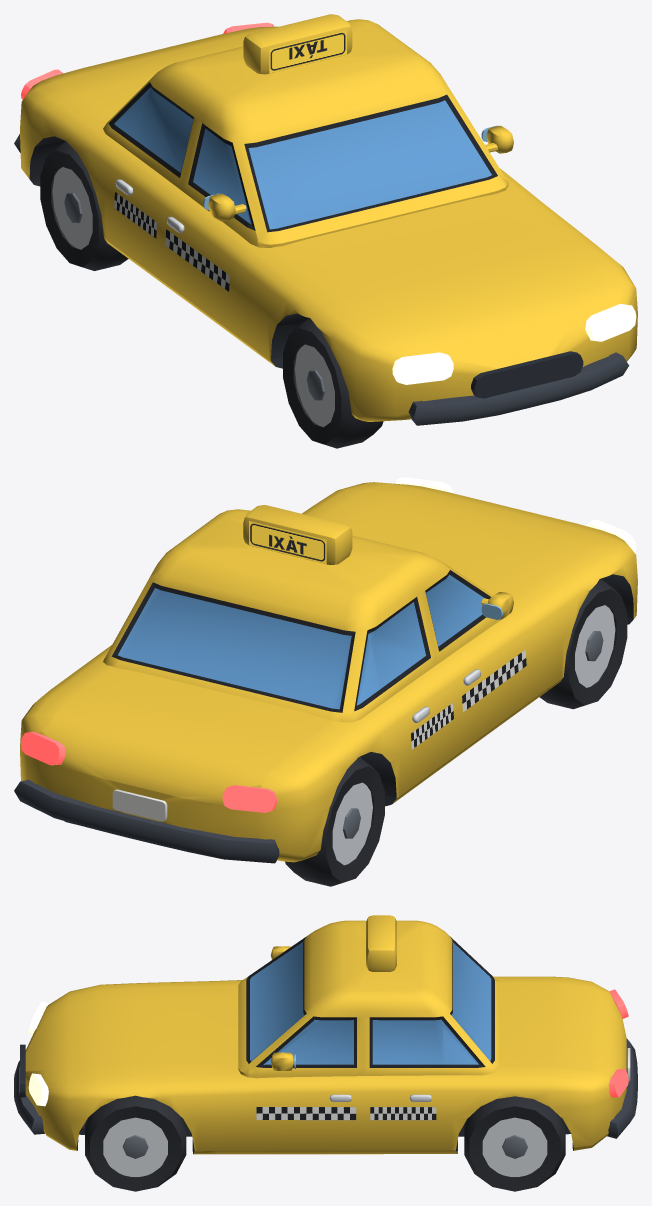
The model's file is taxi.glb.
The picture shows the model from 3 angles, top to bottom: view 1: azimuth 30°, elevation 25°; view 2: azimuth 150°, elevation 25°; view 3: azimuth 270°, elevation 25°; orthographic projection. The views are drawn at different scales.
Parts seen in each view (by area): view 1: taxi, porta_dianteira_esq, porta_traseira_esq, roda_dianteira_esq, roda_traseira_esq, porta_malas; view 2: taxi, porta_malas, porta_dianteira_esq, porta_traseira_esq, roda_traseira_esq, roda_dianteira_esq; view 3: taxi, porta_dianteira_dir, porta_traseira_dir, porta_malas, roda_dianteira_dir, roda_traseira_dir.
Boxes of the visible parts, x1,y1,x2,y2 form: taxi: (14,14,637,425); porta_dianteira_esq: (162,120,257,334); porta_traseira_esq: (110,82,197,281); roda_dianteira_esq: (283,318,383,448); roda_traseira_esq: (40,141,128,270); porta_malas: (43,27,270,115); taxi: (14,477,637,863); porta_malas: (42,671,325,805); porta_dianteira_esq: (421,570,529,755); porta_traseira_esq: (367,594,457,792); roda_traseira_esq: (285,757,384,886); roda_dianteira_esq: (539,579,627,709); taxi: (14,915,637,1154); porta_dianteira_dir: (249,1016,363,1150); porta_traseira_dir: (363,1016,443,1150); porta_malas: (508,983,626,1077); roda_dianteira_dir: (85,1095,186,1191); roda_traseira_dir: (464,1096,565,1191).
Bounding box in the file's own units: 1.94 × 1.65 × 4.44.
Materials: 6 (3 with a texture image).
